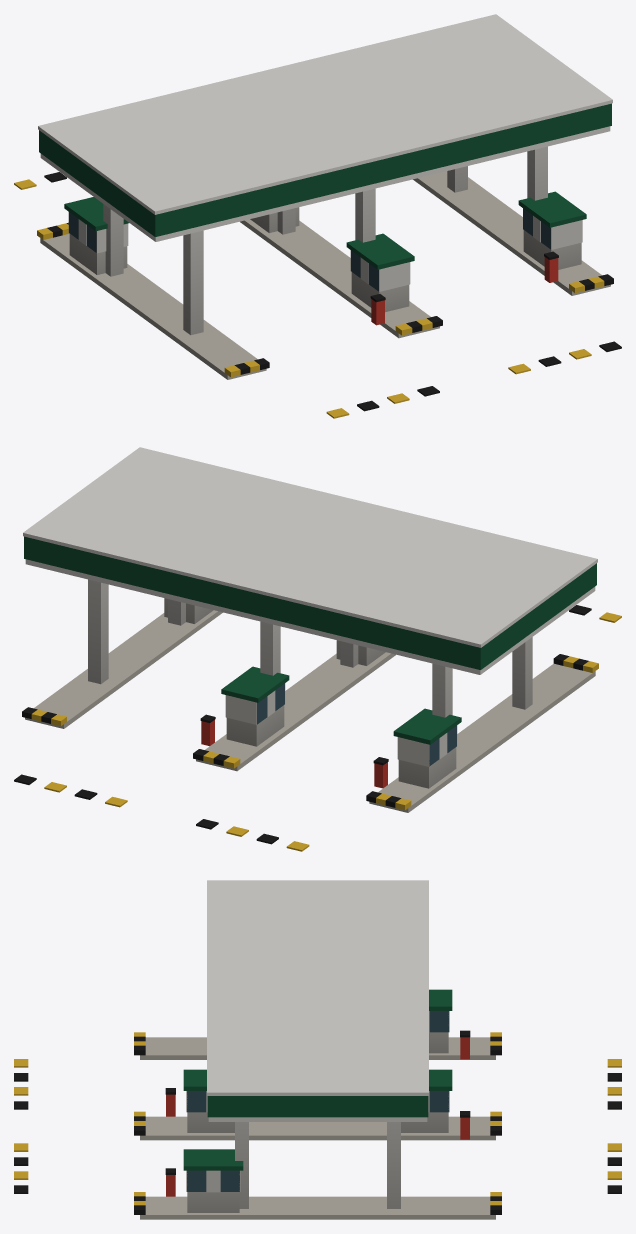
File: ub_toll.glb
3 views of the same model, one above another, from view 1: azimuth 30°, elevation 25°; view 2: azimuth 150°, elevation 25°; view 3: azimuth 270°, elevation 25° (orthographic). The views are drawn at different scales.
Visible parts, largest first — view 1: ub_toll; view 2: ub_toll; view 3: ub_toll.
Boxes of the visible parts, x1,y1,x2,y2 form: ub_toll: (14, 14, 621, 418); ub_toll: (14, 447, 621, 851); ub_toll: (14, 880, 621, 1219).
Bounding box in the file's own units: 21.16 × 6.7 × 25.6.
